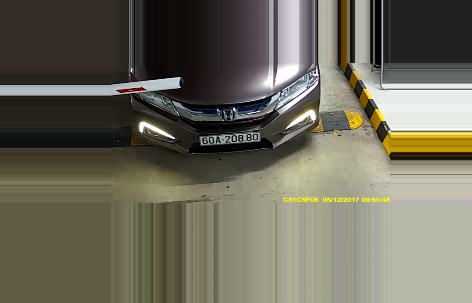plate: (197, 131, 259, 147)
